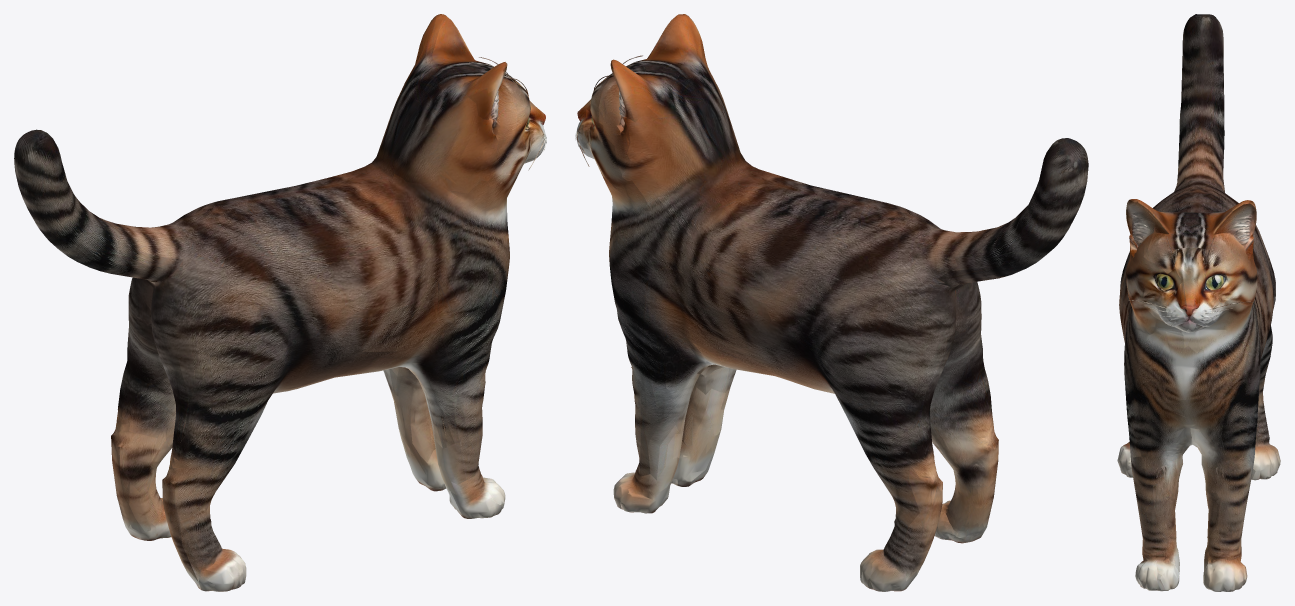
The model's file is leveraged-cat.glb.
3 renders of one model, left to right at view 1: azimuth 30°, elevation 25°; view 2: azimuth 150°, elevation 25°; view 3: azimuth 270°, elevation 25°, orthographic. The views are drawn at different scales.
Visible parts, largest first — view 1: fit; view 2: fit; view 3: fit.
Boxes of the visible parts, x1,y1,x2,y2 form: fit: (14,14,546,591); fit: (575,14,1088,591); fit: (1117,14,1280,591).
Bounding box in the file's own units: 1.17 × 1 × 0.3727.
Materials: 1 (1 with a texture image).
